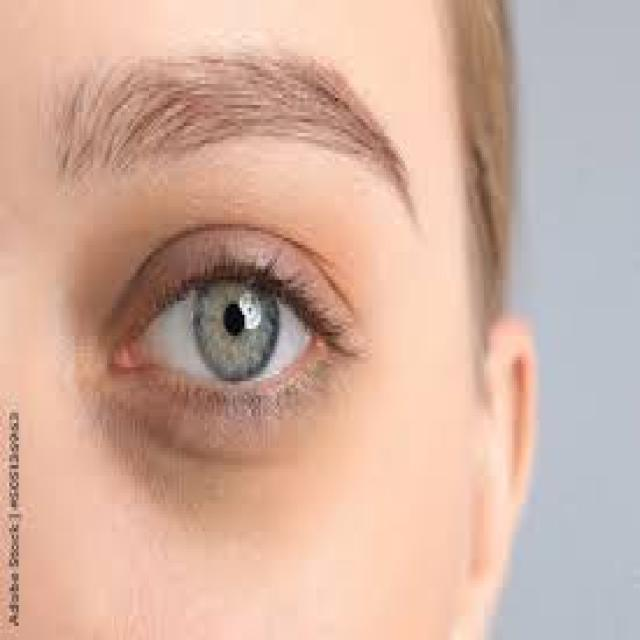Eyebags: (108, 377, 340, 518)
